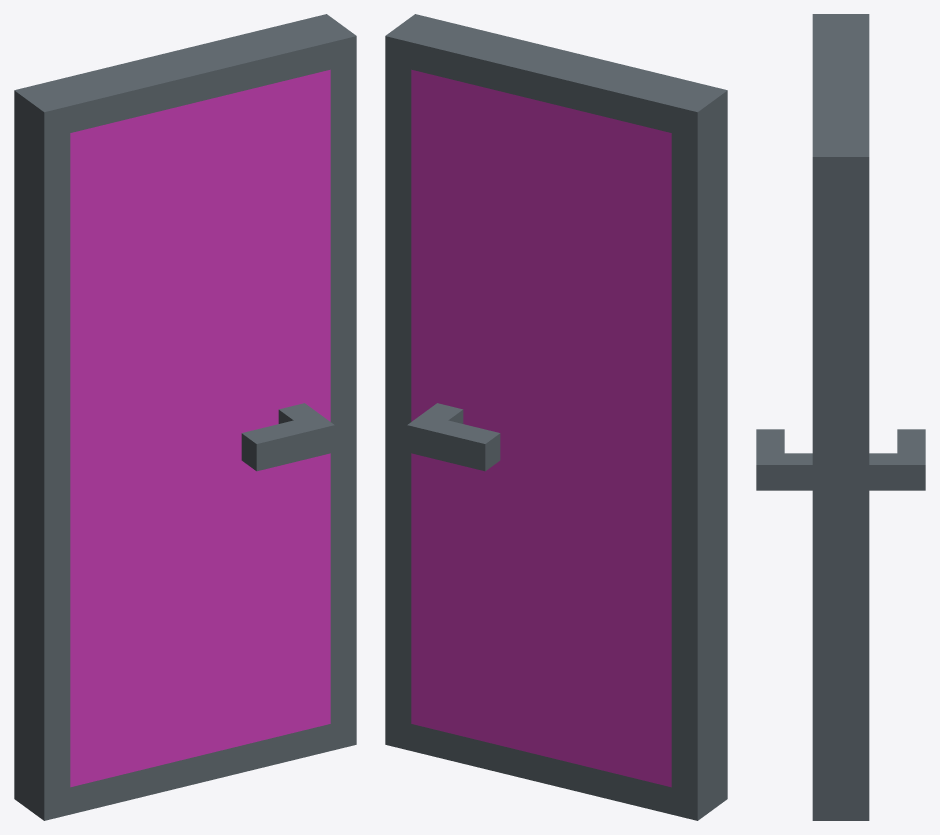
Rendered from pintu toilet_cewe.obj.
3 renders of one model, left to right at view 1: azimuth 30°, elevation 25°; view 2: azimuth 150°, elevation 25°; view 3: azimuth 270°, elevation 25°, orthographic. The views are drawn at different scales.
Bounding box in the file's own units: 1.2 × 2.6 × 0.6.
Materials: 1 (1 with a texture image).
